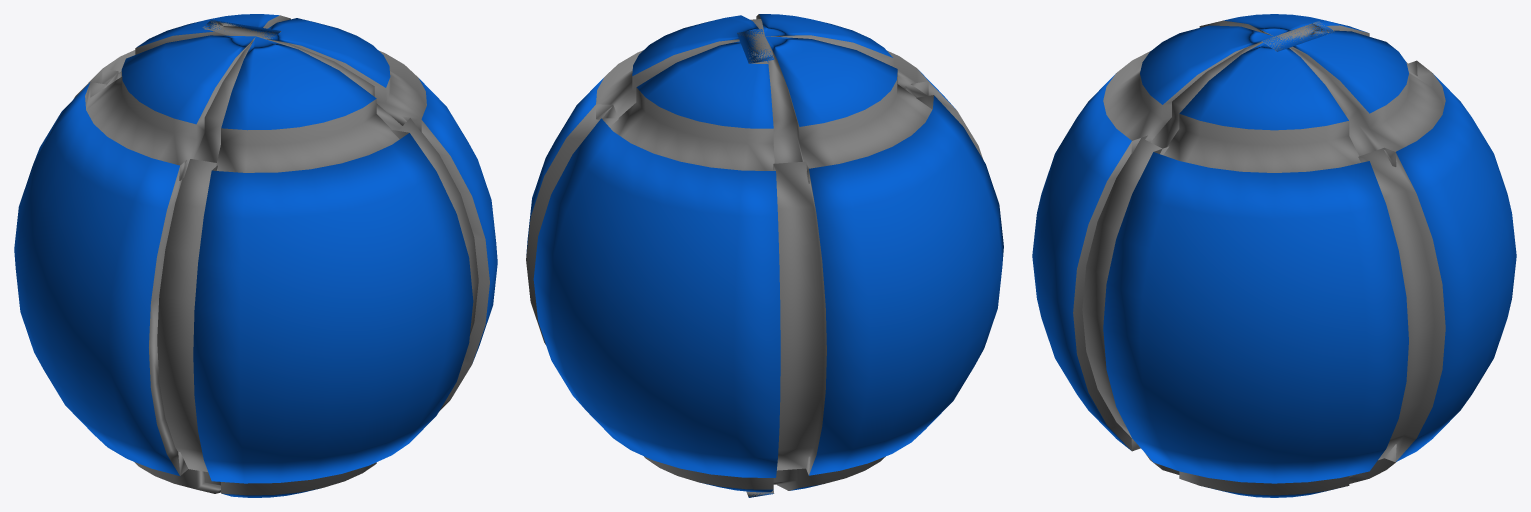
The model's file is BlueBubble.fbx.
3 views of the same model, side by side, from view 1: azimuth 30°, elevation 25°; view 2: azimuth 150°, elevation 25°; view 3: azimuth 270°, elevation 25° (orthographic).
Parts seen in each view (by area): view 1: Sphere; view 2: Sphere; view 3: Sphere.
Boxes of the visible parts, left/top/right/bottom form: Sphere: left=14, top=14, right=497, bottom=497; Sphere: left=526, top=14, right=1003, bottom=497; Sphere: left=1032, top=14, right=1516, bottom=497.
Bounding box in the file's own units: 2 × 2.01 × 2.
